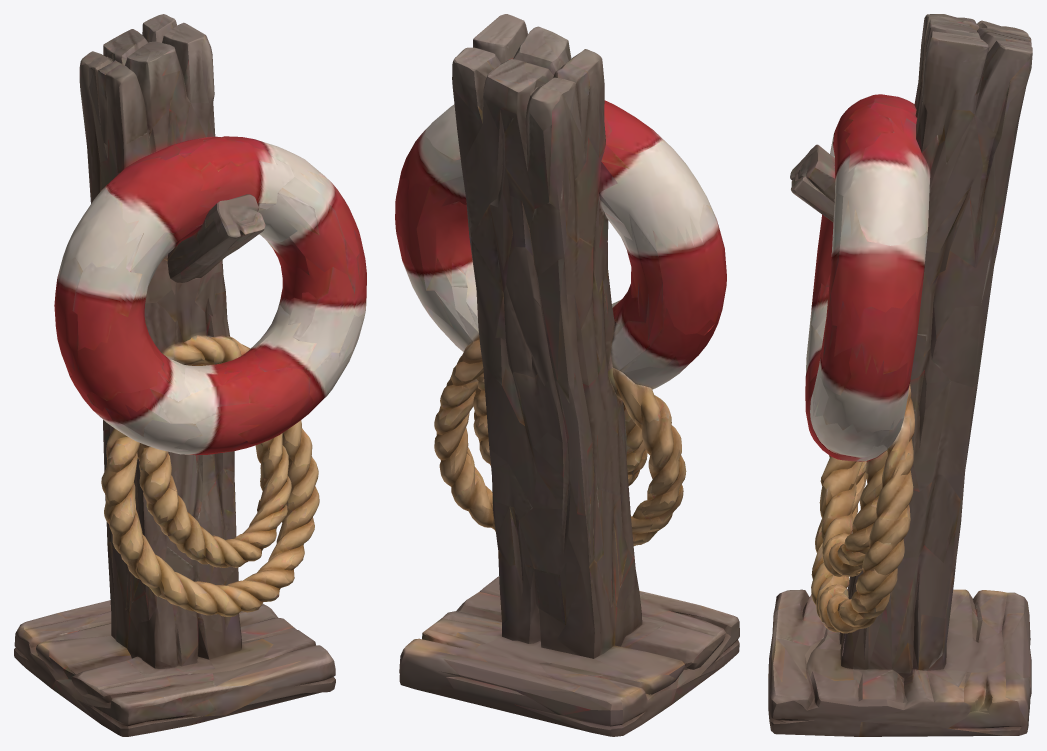
File: lifebuoy-post.glb
3 renders of one model, left to right at view 1: azimuth 30°, elevation 25°; view 2: azimuth 150°, elevation 25°; view 3: azimuth 270°, elevation 25°, orthographic. The views are drawn at different scales.
Size of the model in its own units: 0.9689 by 1.9 by 0.6838.
1 material, 1 textured.
